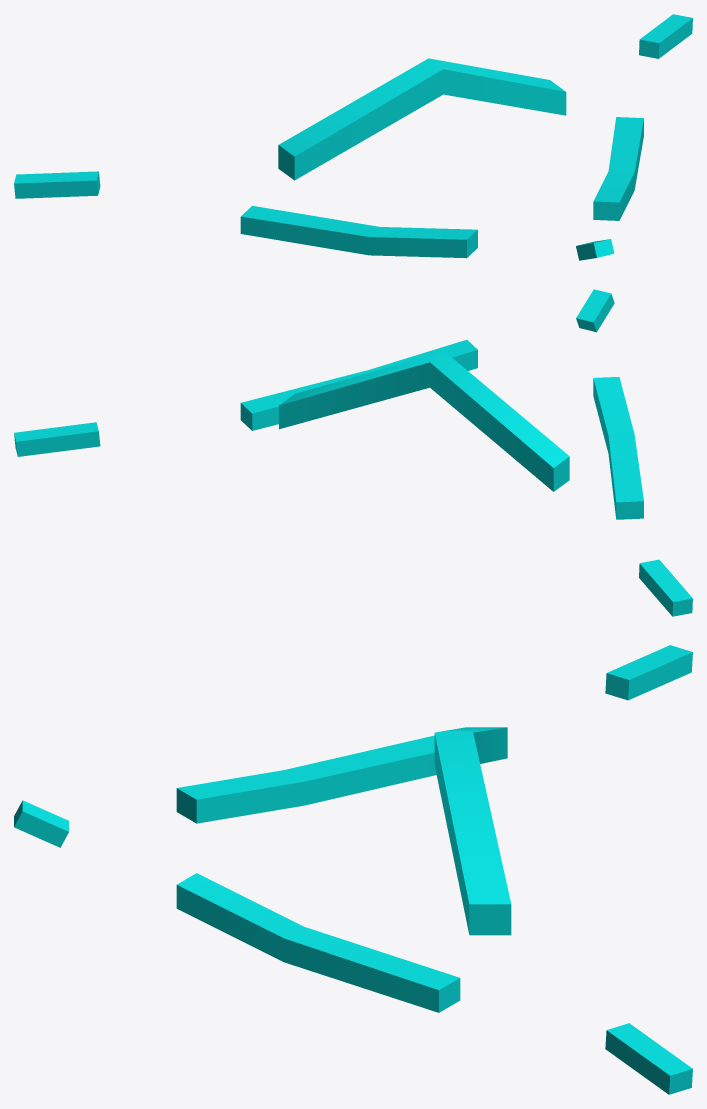
File: SM_Prop_Canopy_06_Collision.fbx
The picture shows the model from 3 angles, top to bottom: view 1: azimuth 30°, elevation 25°; view 2: azimuth 150°, elevation 25°; view 3: azimuth 270°, elevation 25°; orthographic projection. The views are drawn at different scales.
Parts seen in each view (by area): view 1: SM_Prop_Canopy_06_Collision; view 2: SM_Prop_Canopy_06_Collision; view 3: SM_Prop_Canopy_06_Collision.
Part boxes in pixels (x1=…): SM_Prop_Canopy_06_Collision: x1=14, y1=14, x2=692, y2=260; SM_Prop_Canopy_06_Collision: x1=14, y1=289, x2=692, y2=616; SM_Prop_Canopy_06_Collision: x1=14, y1=645, x2=692, y2=1094.
Bounding box in the file's own units: 848 × 140 × 565.
